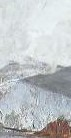Corrosion: (25, 116, 71, 138)
